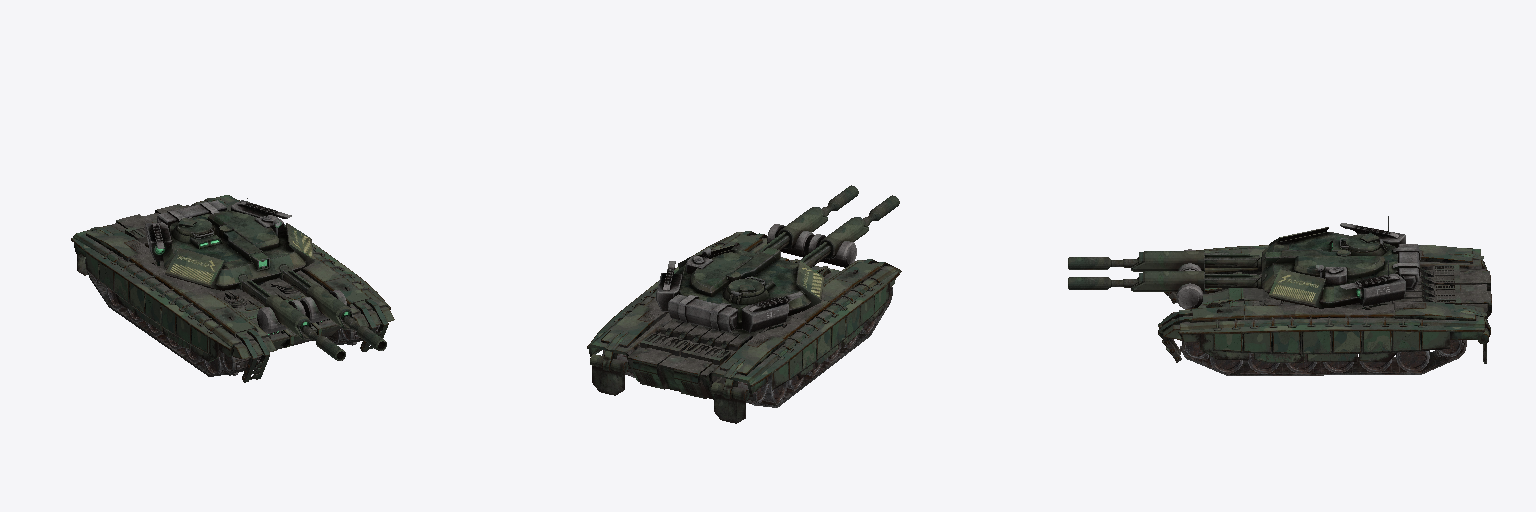
The picture shows the model from 3 angles: view 1: azimuth 30°, elevation 25°; view 2: azimuth 150°, elevation 25°; view 3: azimuth 270°, elevation 25°; orthographic projection.
Parts seen in each view (by area): view 1: Object_2, Object_4, Object_3; view 2: Object_2, Object_4, Object_3; view 3: Object_2, Object_4, Object_3.
Boxes of the visible parts, <box> form: Object_2: <box>71,195,394,382</box>; Object_4: <box>145,198,386,360</box>; Object_3: <box>85,259,379,376</box>; Object_2: <box>587,231,901,423</box>; Object_4: <box>656,185,899,332</box>; Object_3: <box>602,287,892,407</box>; Object_2: <box>1158,245,1491,363</box>; Object_4: <box>1068,216,1420,309</box>; Object_3: <box>1180,303,1466,375</box>.
Bounding box in the file's own units: 3.76 × 3.31 × 7.71.
Materials: 3 (3 with a texture image).